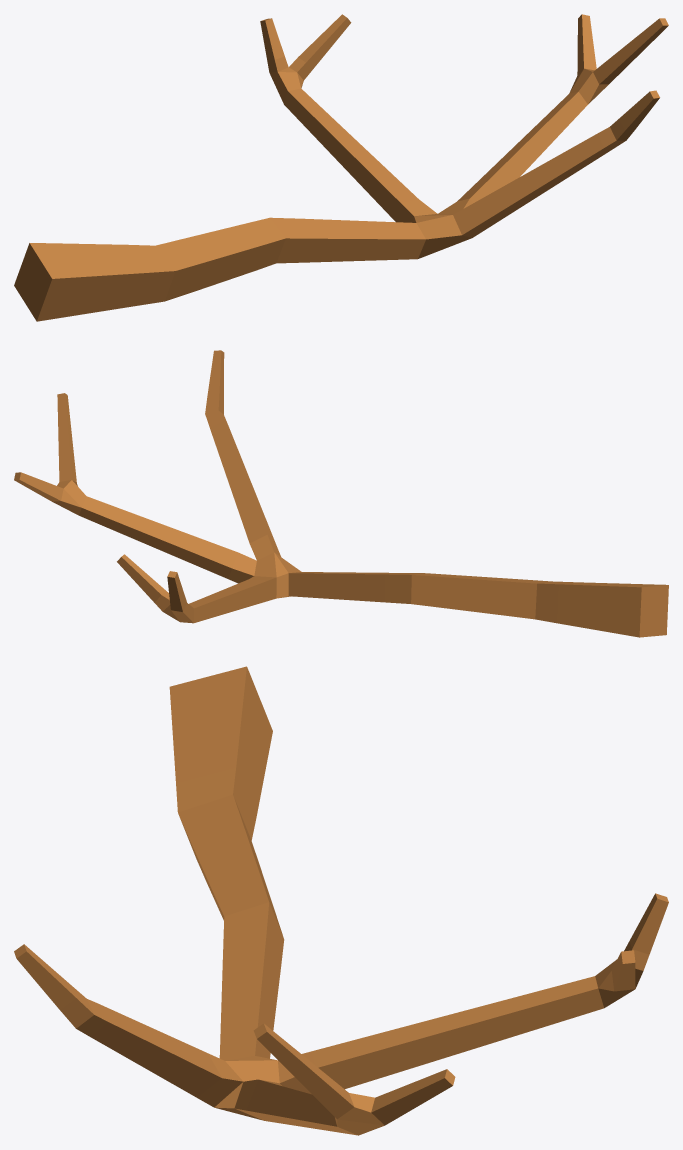
The model's file is CliffBranch.fbx.
3 views of the same model, one above another, from view 1: azimuth 30°, elevation 25°; view 2: azimuth 150°, elevation 25°; view 3: azimuth 270°, elevation 25° (orthographic). The views are drawn at different scales.
Visible parts, largest first — view 1: Cylinder; view 2: Cylinder; view 3: Cylinder.
Boxes of the visible parts, left/top/right/bottom form: Cylinder: left=14, top=14, right=668, bottom=321; Cylinder: left=14, top=350, right=668, bottom=637; Cylinder: left=14, top=666, right=668, bottom=1135.
Bounding box in the file's own units: 131 × 34.75 × 78.41.
